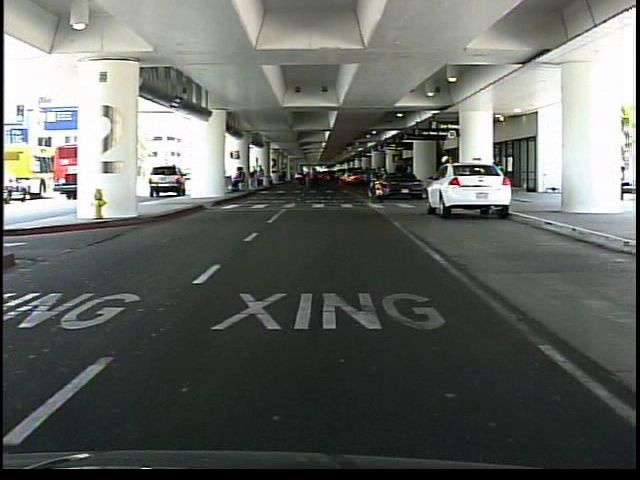person: (436, 151, 454, 211)
